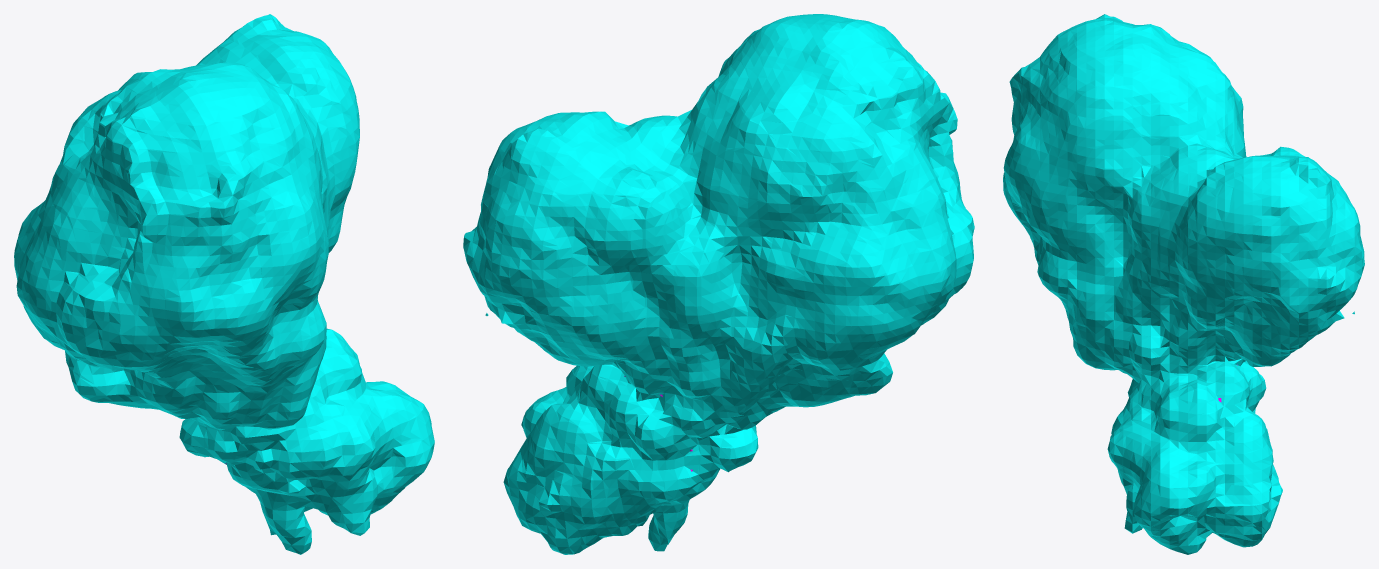
The picture shows the model from 3 angles, left to right: view 1: azimuth 30°, elevation 25°; view 2: azimuth 150°, elevation 25°; view 3: azimuth 270°, elevation 25°; orthographic projection. The views are drawn at different scales.
Visible parts, largest first — view 1: Renderer Node; view 2: Renderer Node; view 3: Renderer Node.
Boxes of the visible parts, x1=… form: Renderer Node: x1=14, y1=14, x2=434, y2=554; Renderer Node: x1=463, y1=14, x2=974, y2=554; Renderer Node: x1=1003, y1=14, x2=1364, y2=554.
Bounding box in the file's own units: 9.65e+15 × 1.19e+16 × 8.56e+15.
